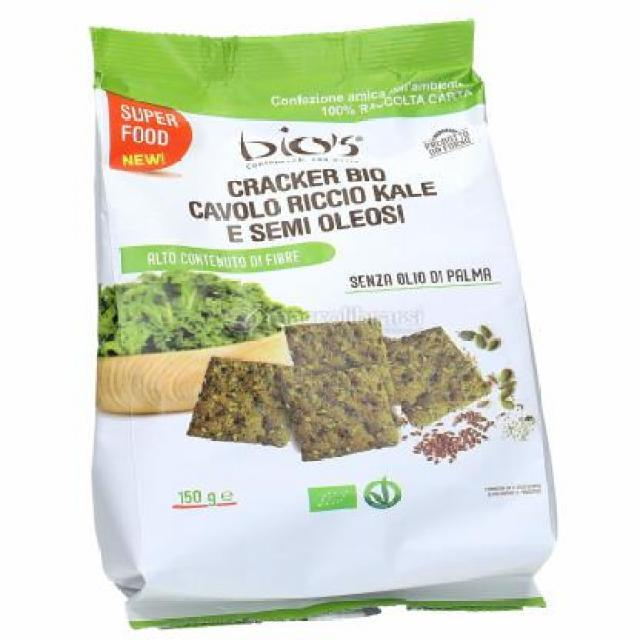Cracker: (77, 17, 566, 628)
